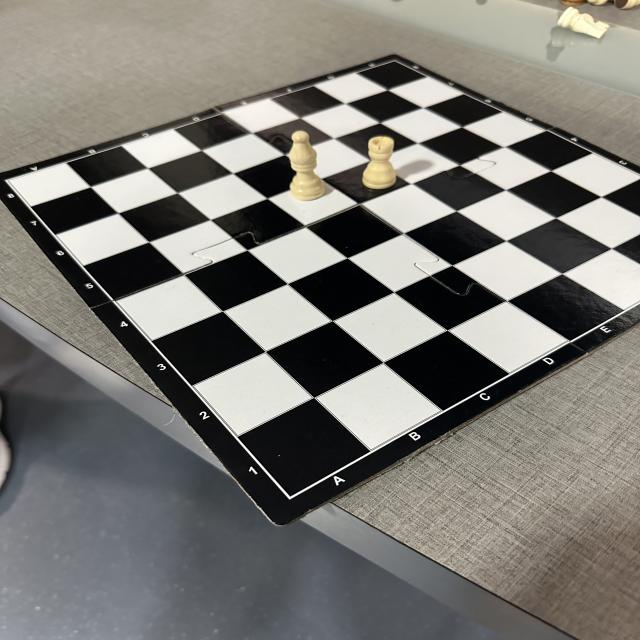White-Bishop: (288, 131, 326, 201)
White-Knight: (556, 6, 610, 39)
White-Rook: (362, 136, 396, 190)
